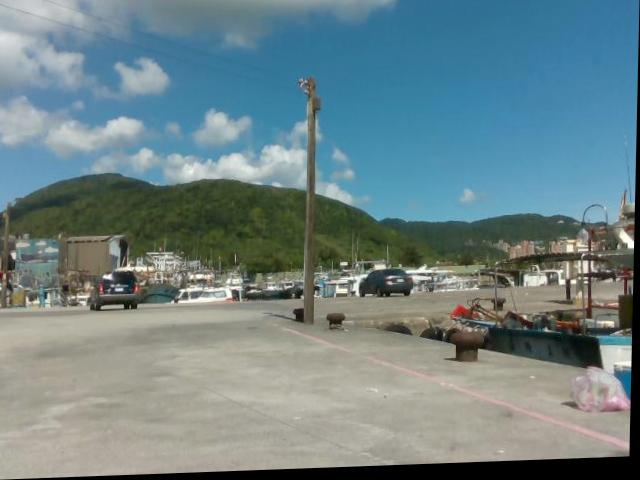pollute: (571, 370, 633, 419)
